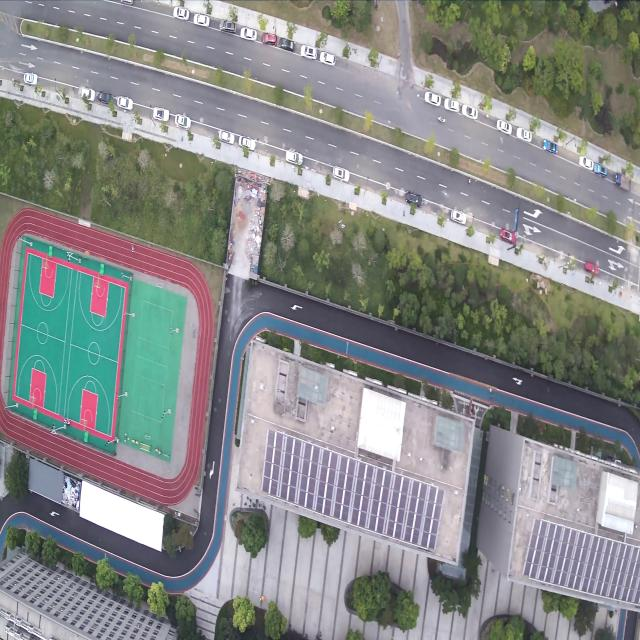UAV: (254, 394, 260, 402)
